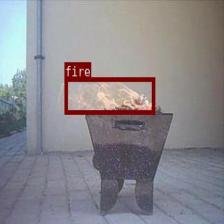fire: (64, 76, 154, 114)
